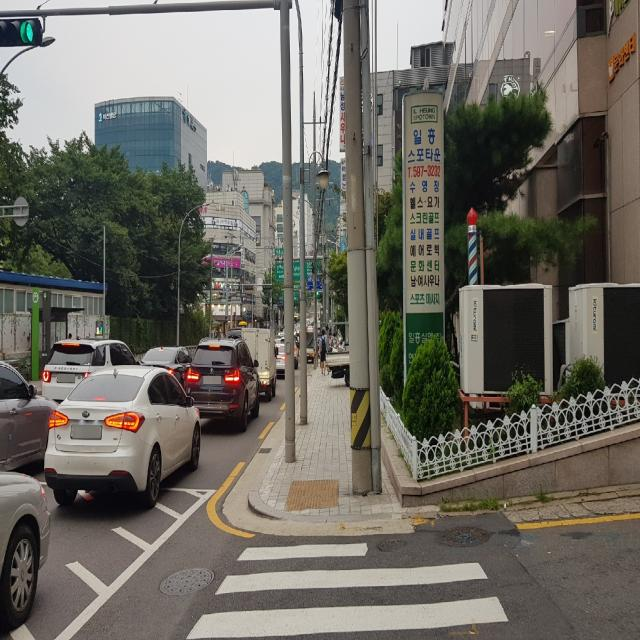횡단보도: (184, 541, 510, 640)
